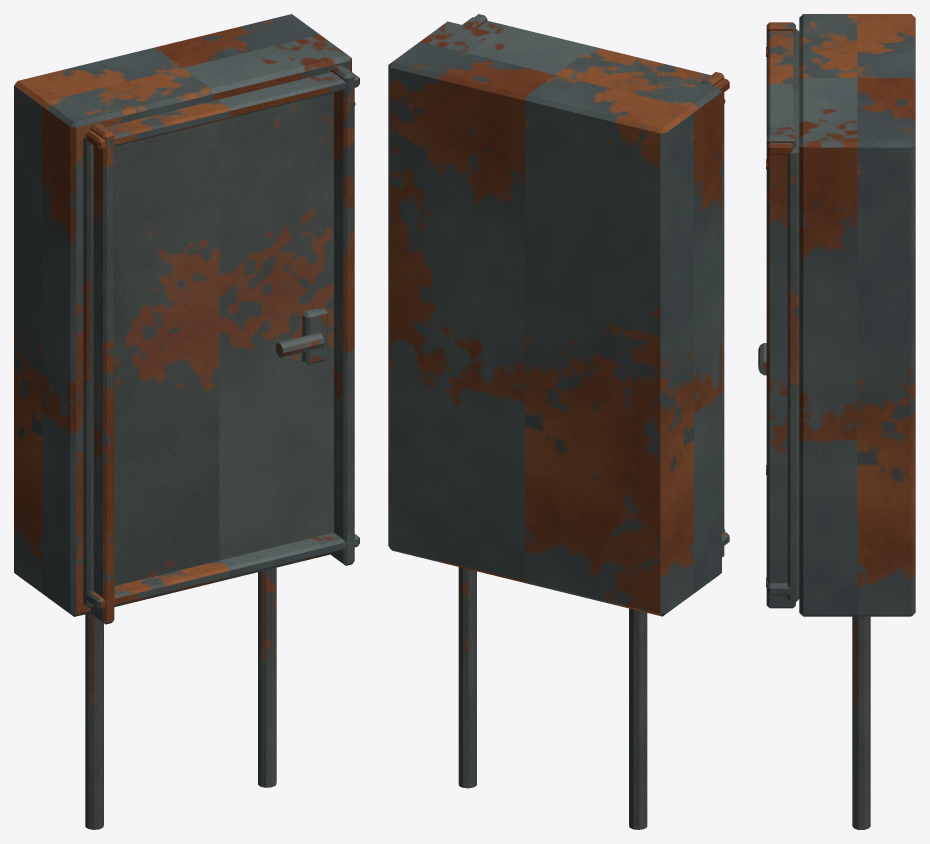
Rendered from electrical_cabinet_v03.glb.
3 views of the same model, side by side, from view 1: azimuth 30°, elevation 25°; view 2: azimuth 150°, elevation 25°; view 3: azimuth 270°, elevation 25° (orthographic). The views are drawn at different scales.
Parts seen in each view (by area): view 1: roof_combined, steel_combined; view 2: steel_combined, roof_combined; view 3: steel_combined, roof_combined.
Boxes of the visible parts, x1,y1,x2,y2 form: roof_combined: [83, 93, 333, 829]; steel_combined: [14, 14, 359, 624]; steel_combined: [388, 14, 729, 616]; roof_combined: [458, 567, 647, 829]; steel_combined: [758, 14, 915, 616]; roof_combined: [787, 29, 870, 829].
Bounding box in the file's own units: 0.75 × 1.88 × 0.378.
Materials: 2 (2 with a texture image).
